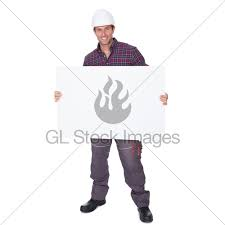Person_wearing_helmet: (89, 7, 119, 33)
